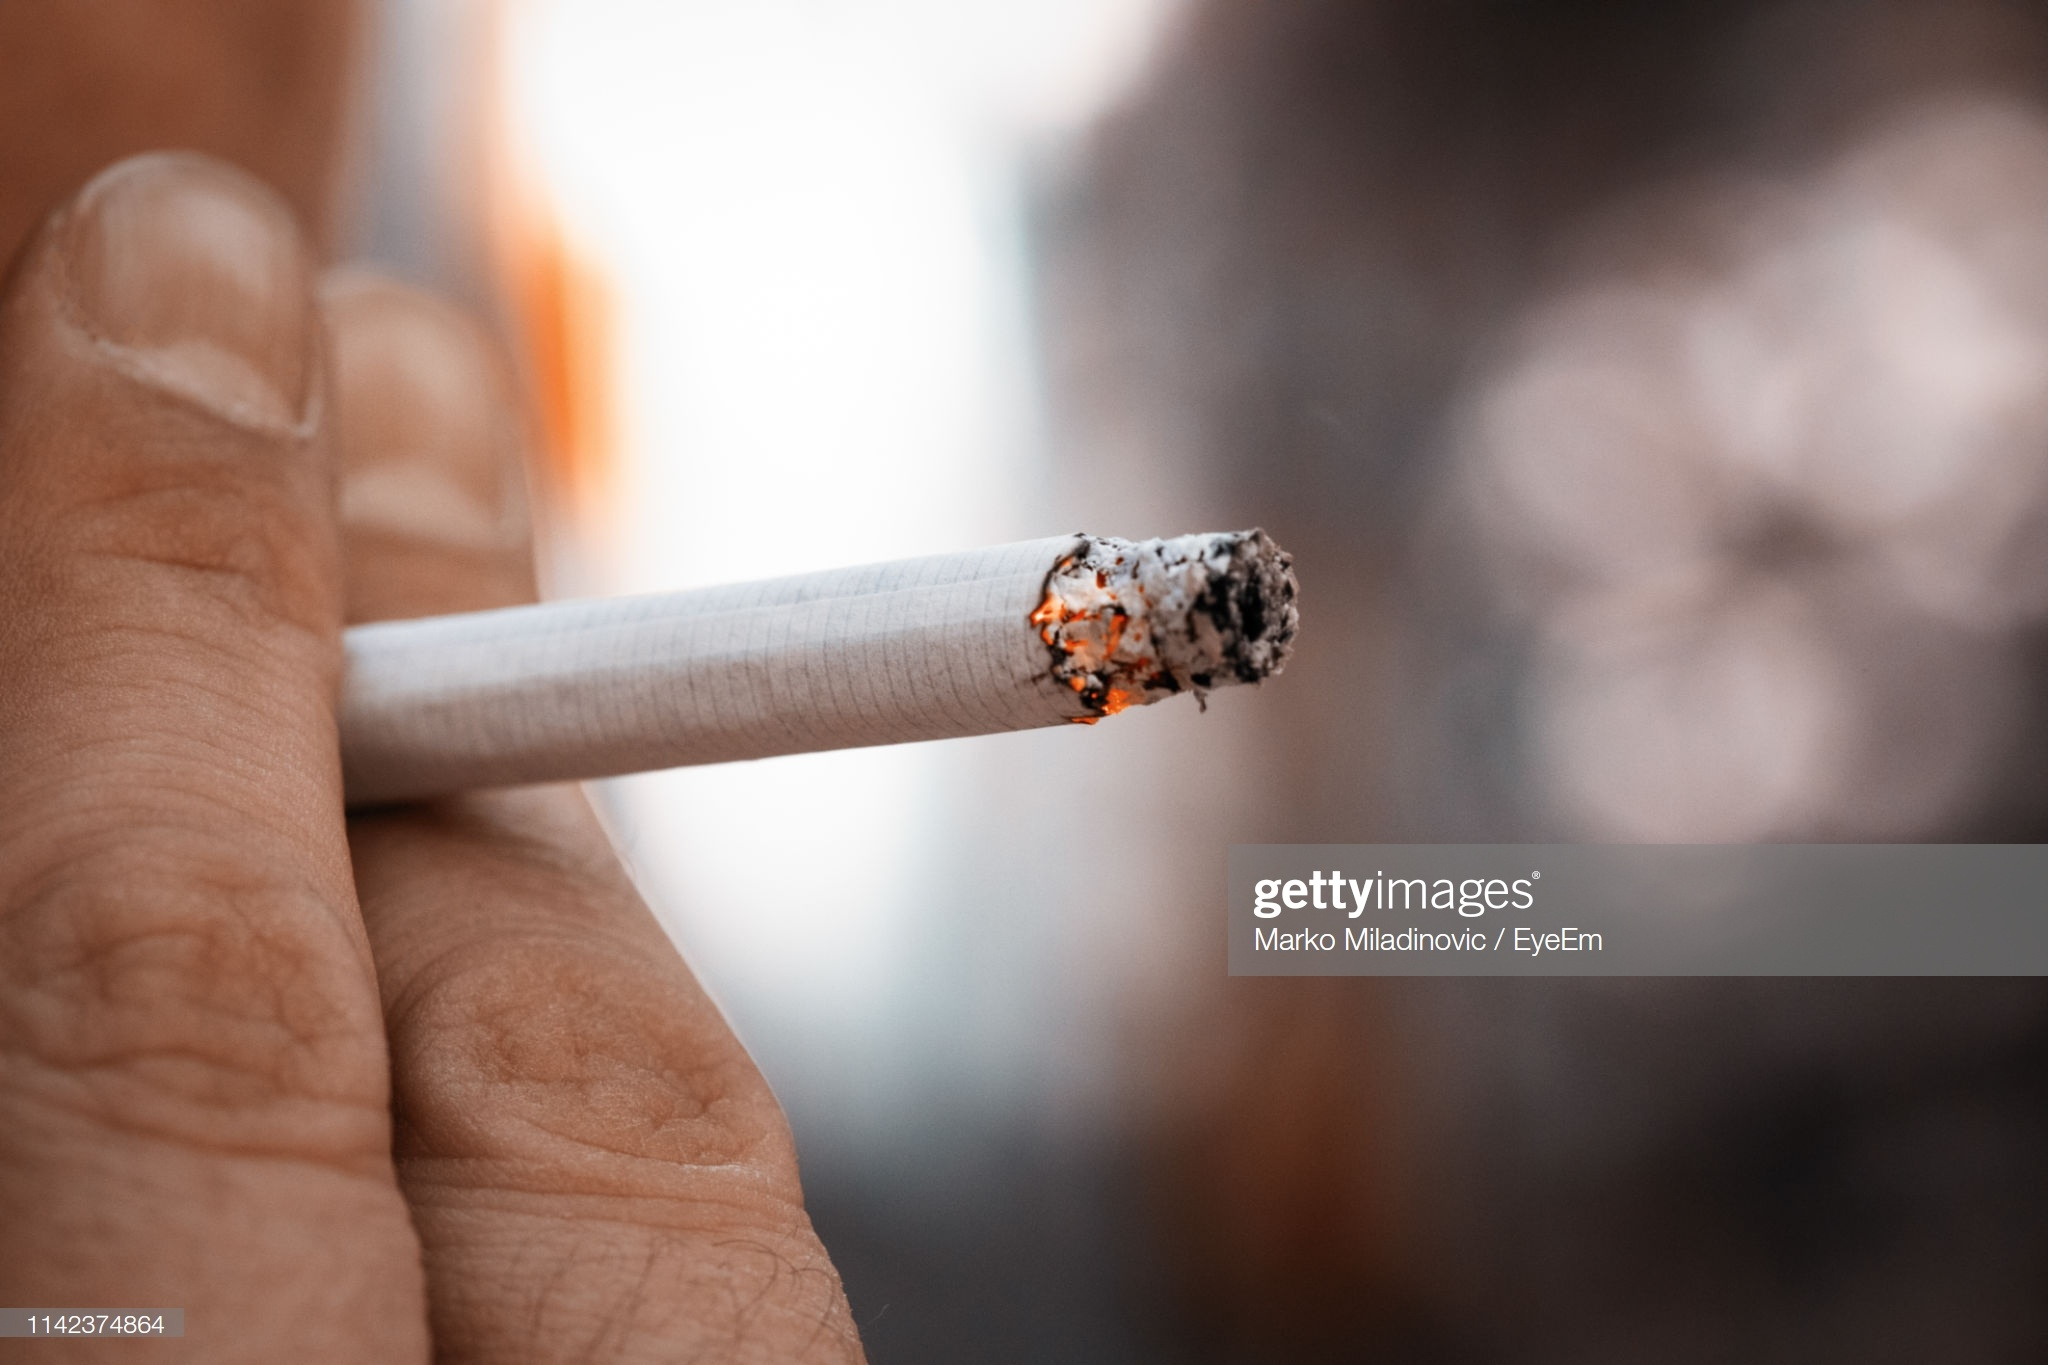sigaretta: (286, 489, 1285, 804)
